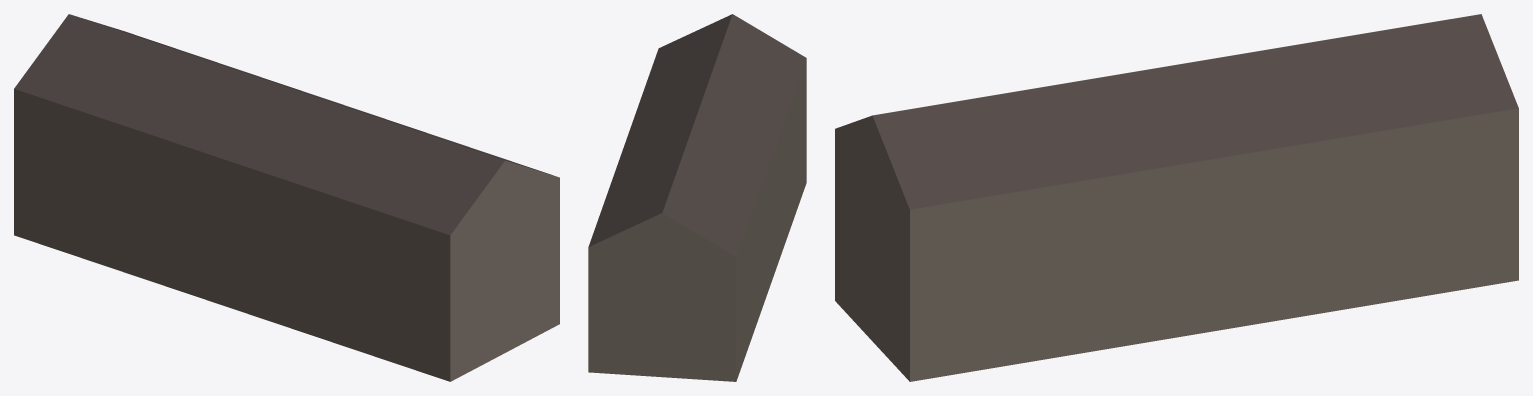
The picture shows the model from 3 angles, left to right: view 1: azimuth 30°, elevation 25°; view 2: azimuth 150°, elevation 25°; view 3: azimuth 270°, elevation 25°; orthographic projection. The views are drawn at different scales.
Parts seen in each view (by area): view 1: HP-w859424178; view 2: HP-w859424178; view 3: HP-w859424178.
Boxes of the visible parts, x1,y1,x2,y2 form: HP-w859424178: [14, 14, 559, 381]; HP-w859424178: [588, 14, 806, 381]; HP-w859424178: [835, 14, 1518, 381].
Bounding box in the file's own units: 20.47 × 11.82 × 32.41.
